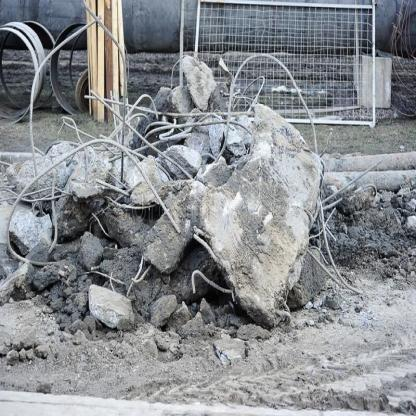rebar: (4, 5, 325, 279), (312, 154, 385, 299), (187, 264, 237, 304)
